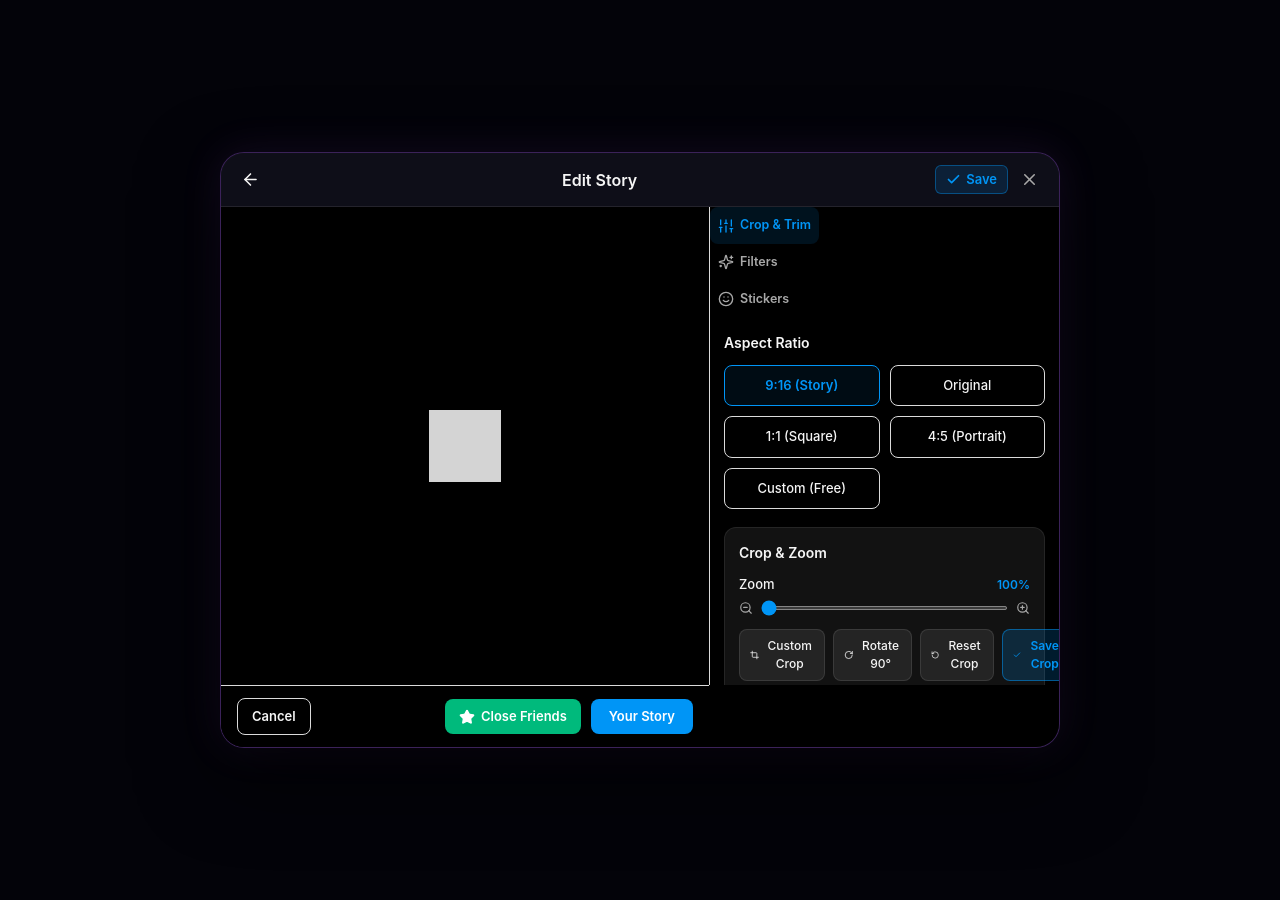
Test: CreateStoryModal Crop, Trim, Stickers & Right-Up Corner Save Features › 5. switches between Crop & Trim, Filters, and Stickers tabs
The image size is (1280, 900).
Earlier steps of the test are not shown.
Later steps or results of the test are not shown.
expect the text "Crop & Trim" is shown: met, box [740,216,811,235]
Click the button "Filters": (748, 262) [710,244,786,281]
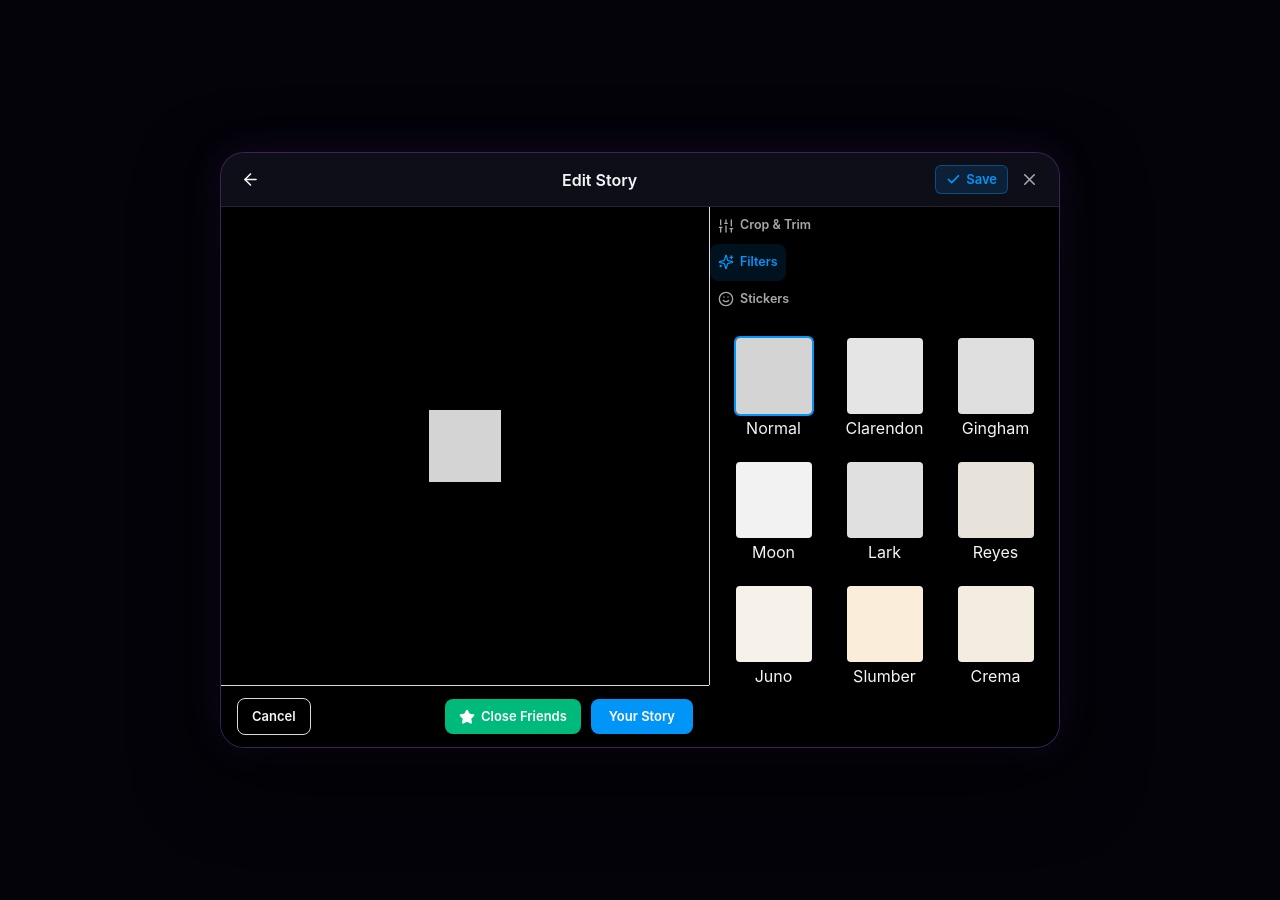
expect the text "Clarendon" is shown: met, box [846,416,923,440]
expect the text "Gingham" is shown: met, box [962,416,1029,440]
expect the text "Juno" is shown: met, box [755,664,792,685]
Click the button "Juno": (774, 636) [724,580,823,692]
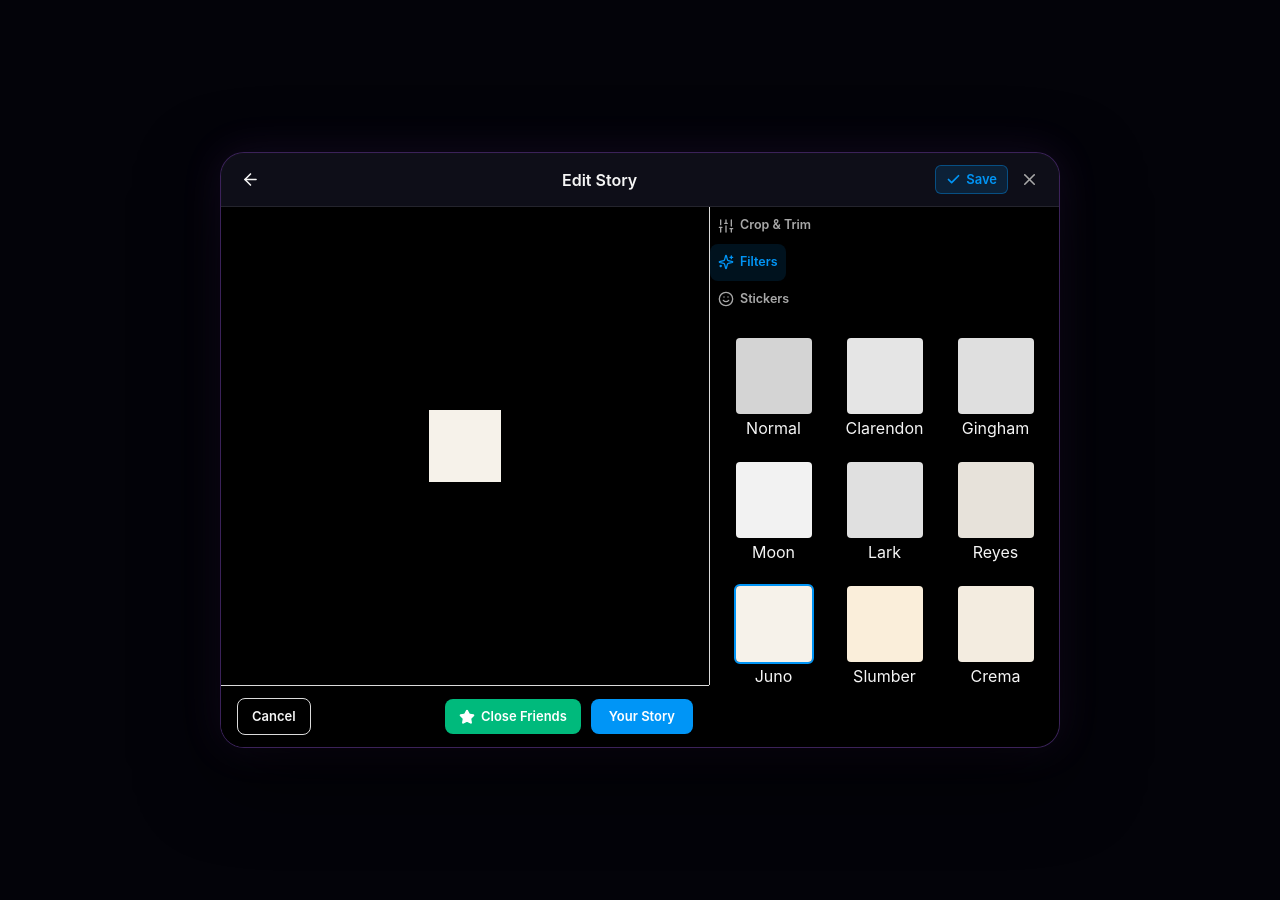
Click the button "Stickers": (754, 299) [710,281,797,318]
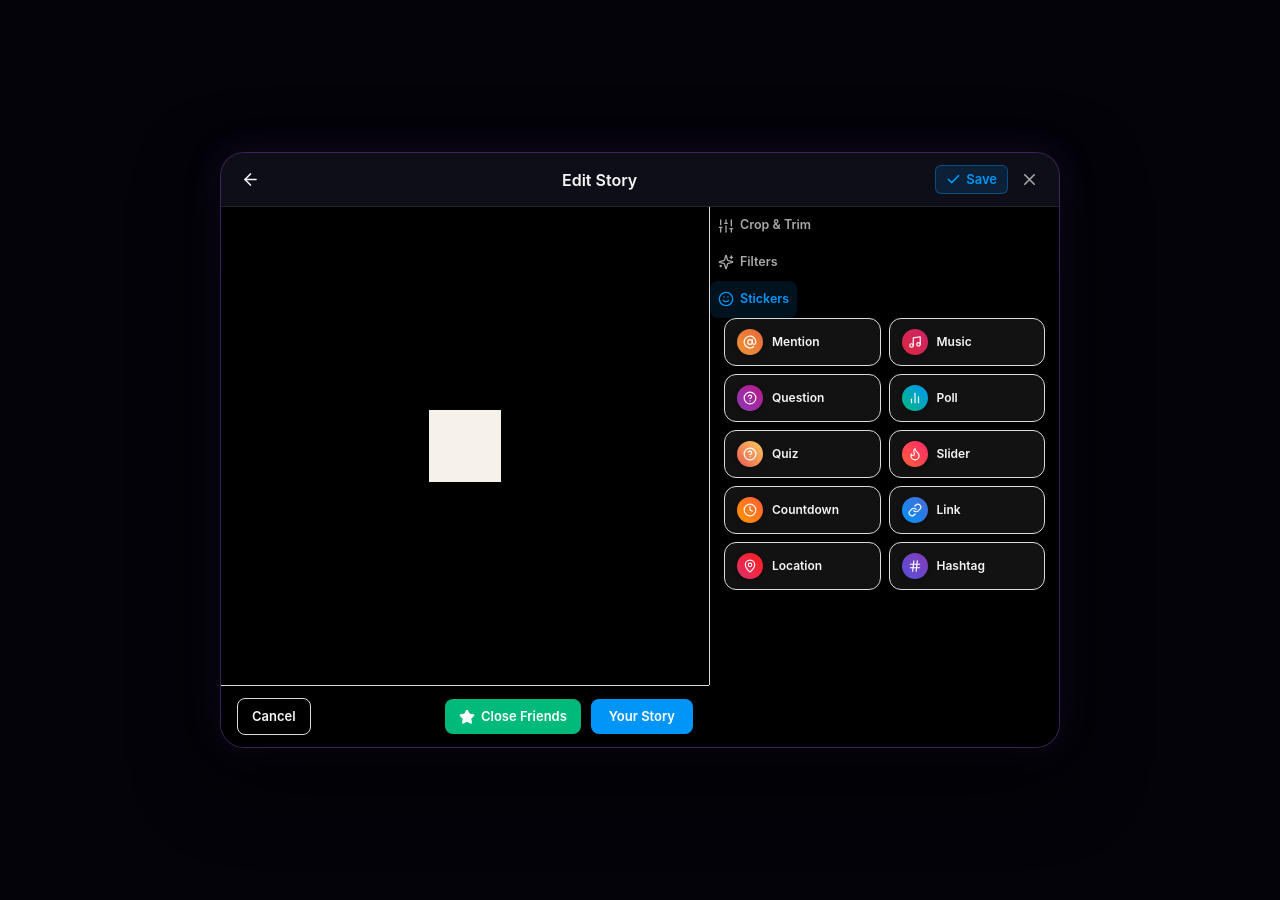
expect the text "Question" is shown: met, box [772,390,824,404]
expect the text "Poll" is shown: met, box [936,390,958,404]
expect the text "Quiz" is shown: met, box [772,446,799,460]
